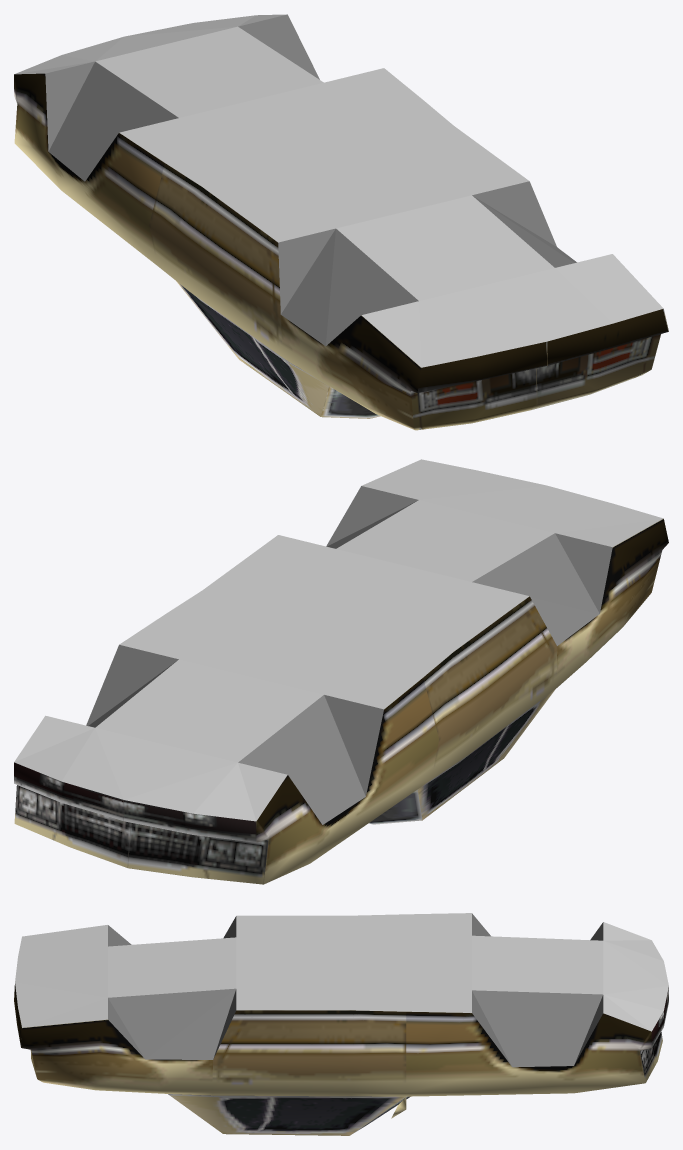
File: RIO_model1_clean.obj
The picture shows the model from 3 angles, top to bottom: view 1: azimuth 30°, elevation 25°; view 2: azimuth 150°, elevation 25°; view 3: azimuth 270°, elevation 25°; orthographic projection. The views are drawn at different scales.
Visible parts, largest first — view 1: RIO_model1_clean; view 2: RIO_model1_clean; view 3: RIO_model1_clean.
Boxes of the visible parts, <box> form: RIO_model1_clean: <box>14,14,668,430</box>; RIO_model1_clean: <box>14,459,668,884</box>; RIO_model1_clean: <box>14,913,668,1135</box>.
Size of the model in its own units: 260 by 156 by 648.
